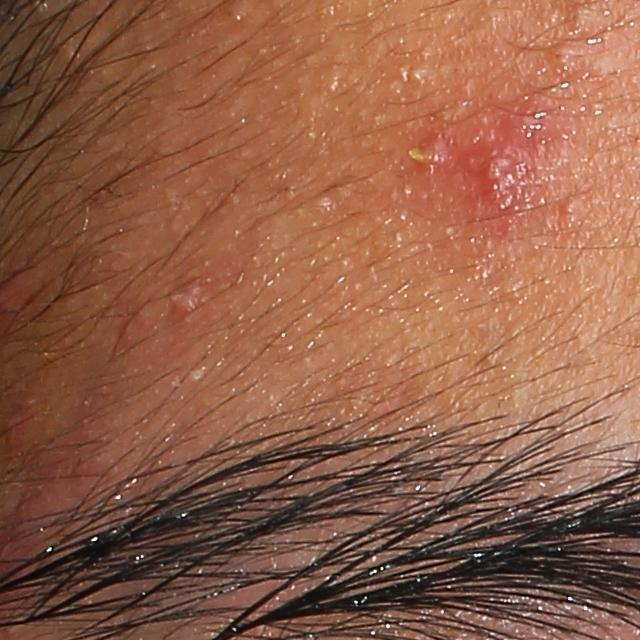comedo: (306, 187, 342, 224), (547, 38, 580, 71), (401, 63, 426, 93), (557, 198, 581, 217)
papule: (170, 276, 209, 317)
pustule: (472, 140, 537, 225), (406, 124, 462, 178)
